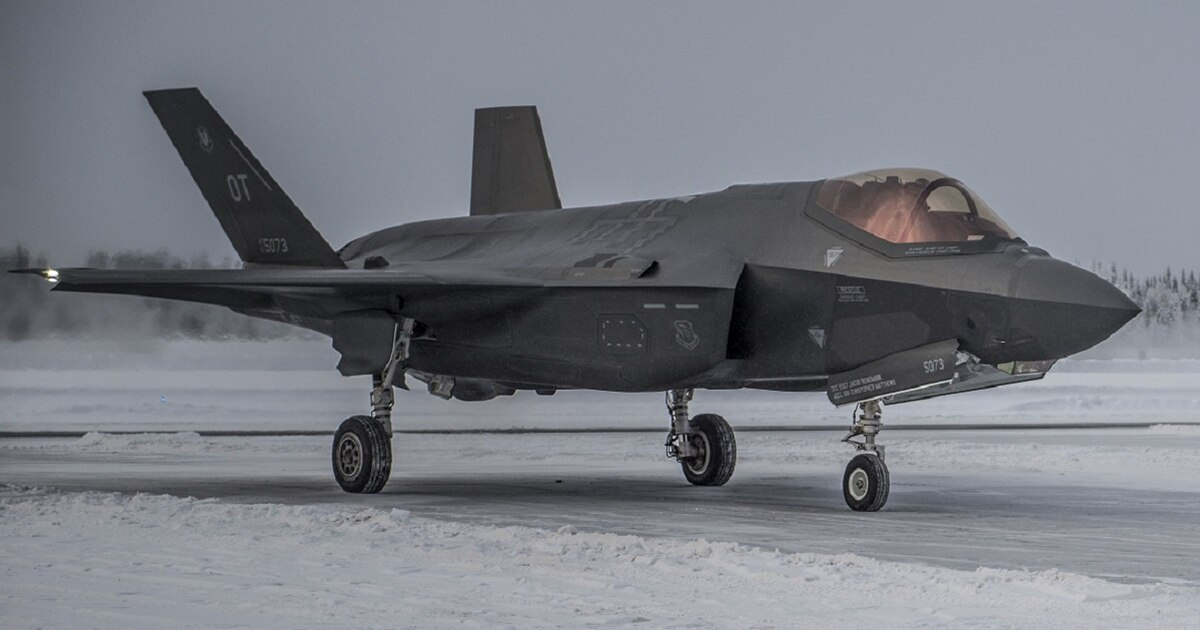F-35 Lightning: (63, 39, 1175, 527)
